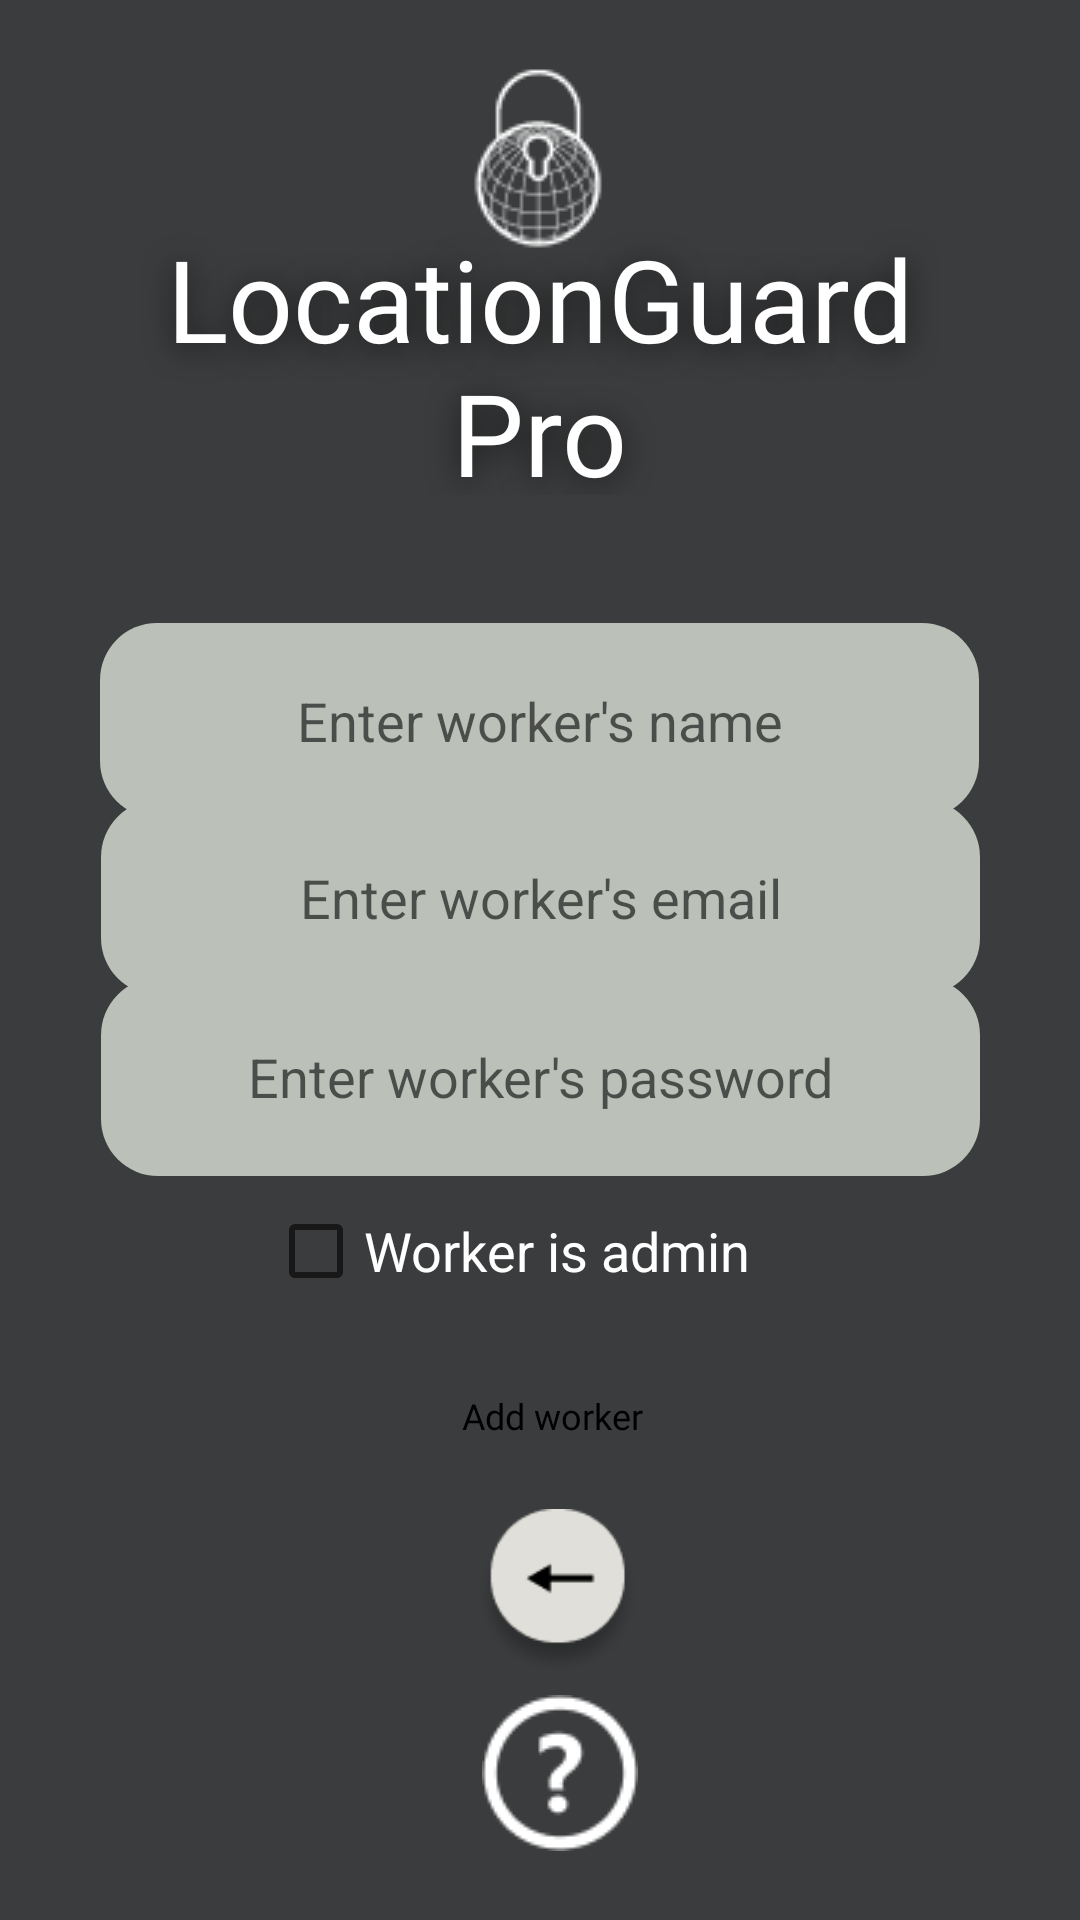

Named icons in this screenshot (1080w x 1920h) and their centers, (x,y):
back: (557,1576)
helpiconwhite: (560,1773)
